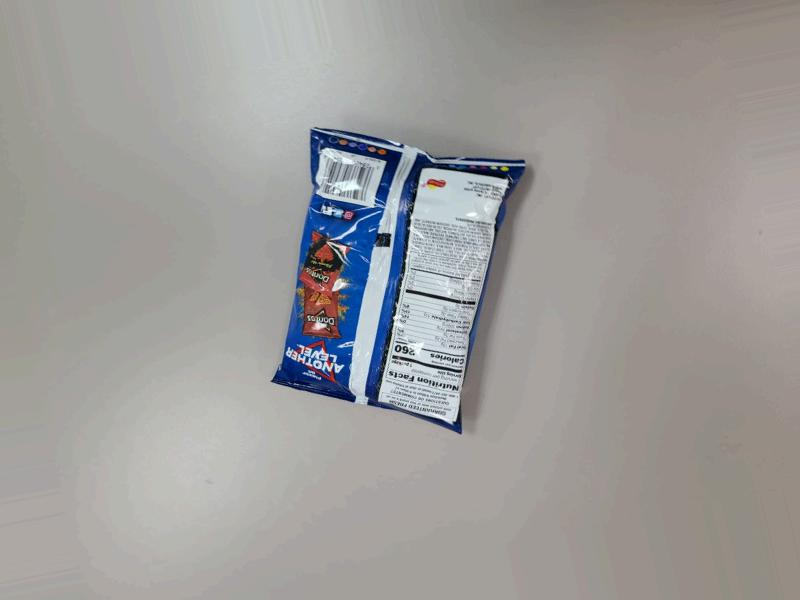doritos: (265, 146, 500, 461)
